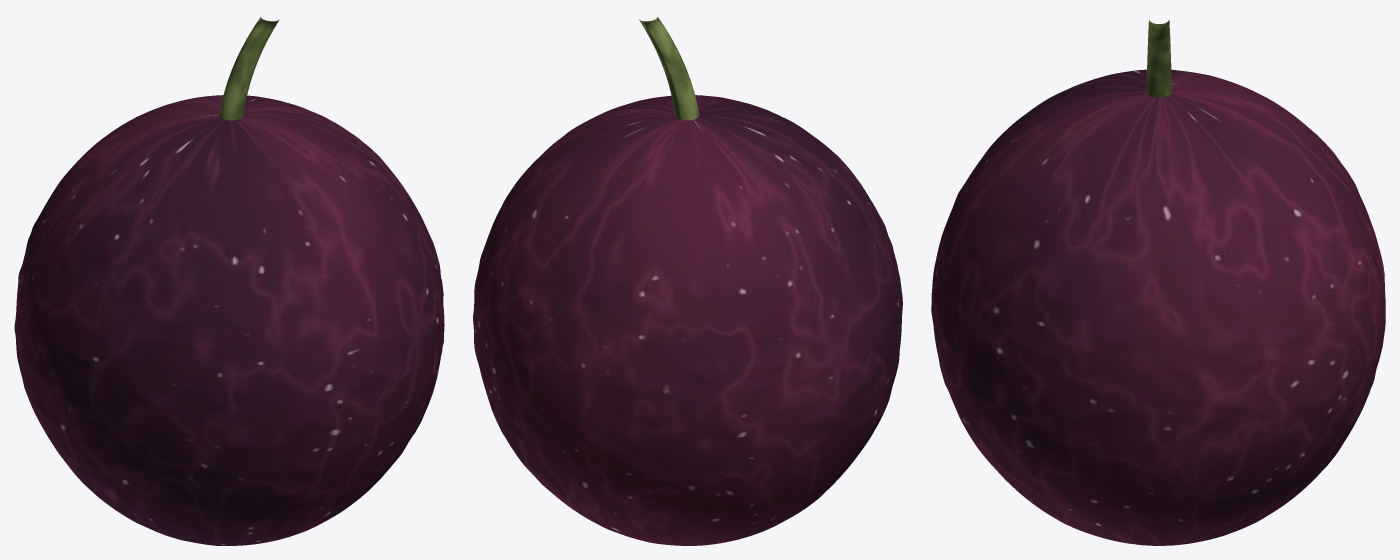
The model's file is fruit-de-la-passion.glb.
The picture shows the model from 3 angles, left to right: view 1: azimuth 30°, elevation 25°; view 2: azimuth 150°, elevation 25°; view 3: azimuth 270°, elevation 25°; orthographic projection. The views are drawn at different scales.
Parts seen in each view (by area): view 1: entier_peau, moitie_A_peau, moitie_B_peau, entier_extra0; view 2: entier_peau, moitie_B_peau, moitie_A_peau, entier_extra0; view 3: entier_peau, moitie_A_peau, moitie_B_peau, entier_extra0.
Part boxes in pixels (x1,y1,x2,y2): entier_peau: [15, 95, 444, 545]; moitie_A_peau: [43, 109, 444, 545]; moitie_B_peau: [14, 95, 338, 500]; entier_extra0: [219, 17, 279, 120]; entier_peau: [473, 95, 902, 545]; moitie_B_peau: [473, 109, 874, 545]; moitie_A_peau: [579, 95, 902, 500]; entier_extra0: [639, 17, 699, 120]; entier_peau: [931, 69, 1385, 545]; moitie_A_peau: [931, 70, 1159, 545]; moitie_B_peau: [1159, 69, 1385, 545]; entier_extra0: [1146, 19, 1171, 97].
Size of the model in its own units: 0.0624 by 0.08 by 0.0623.
3 materials, 3 textured.
